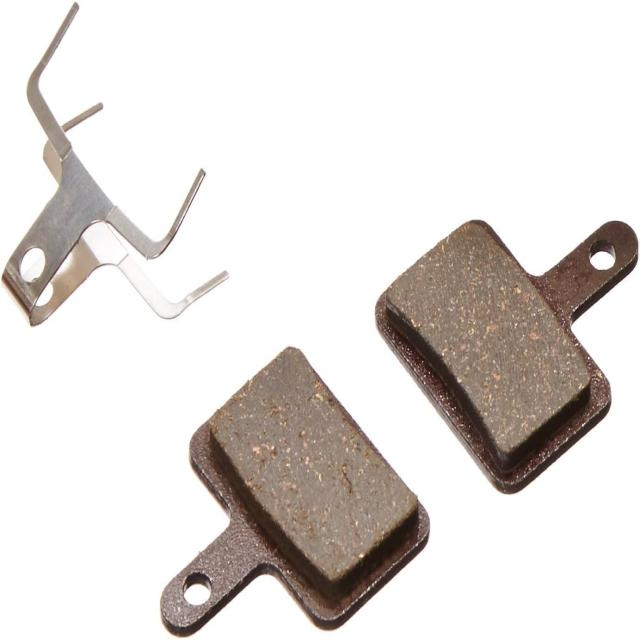brake_pad: (158, 353, 374, 640), (465, 195, 637, 500)
